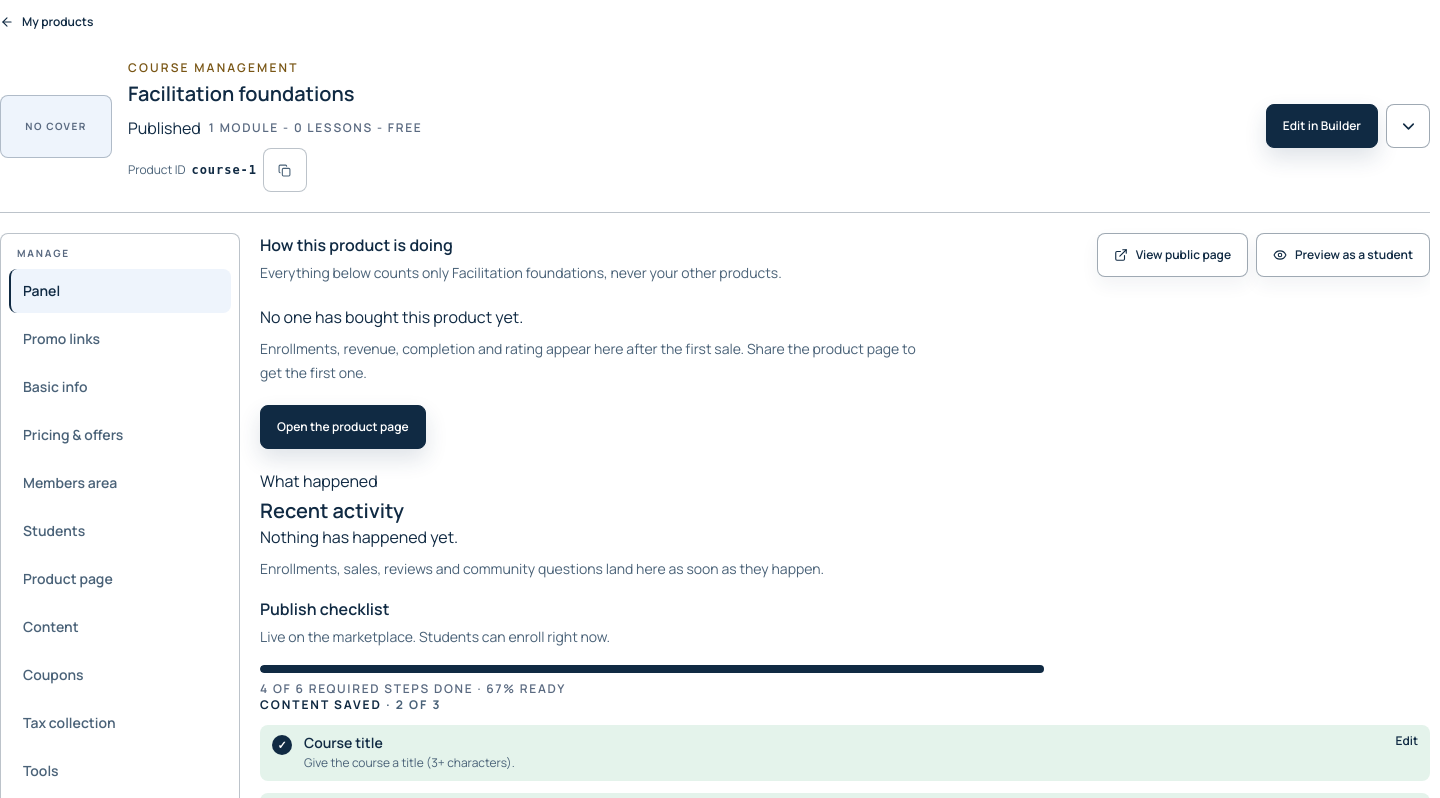
Test: modal de excluir/arquivar — o texto segue o dado › só com assinatura, também promete arquivar, nunca apagar
What coordinates should you click on to do the following:
click the button named "More actions for Facilitation foundations"
I would click on:
 (1408, 126)
Its box is [1386,104,1430,148].
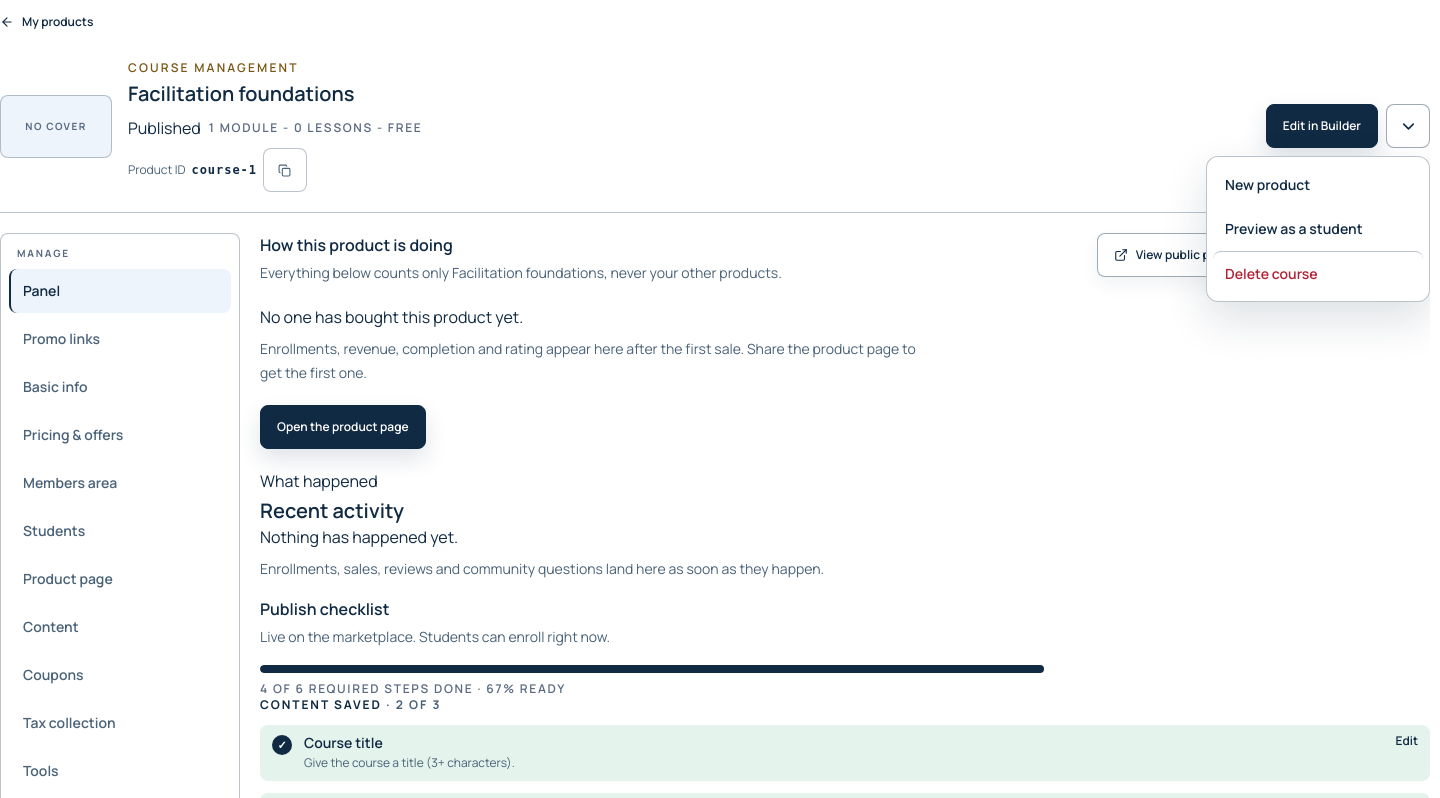
What coordinates should you click on to do the following:
click the menu item "Delete course"
I would click on:
 (1318, 273)
Its box is [1213,251,1423,295].
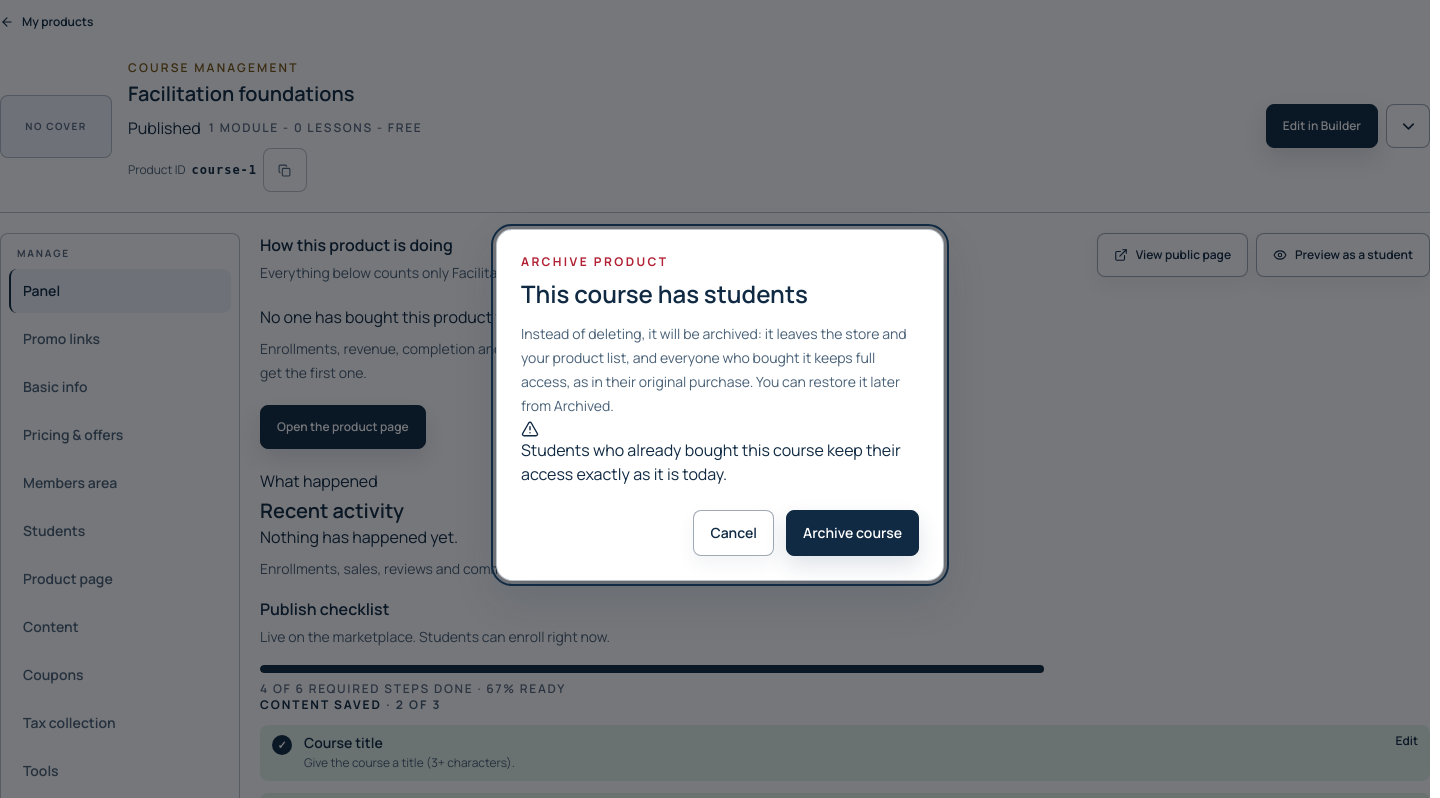
Expected: the button "Archive course" is shown, [786,510,919,556]
